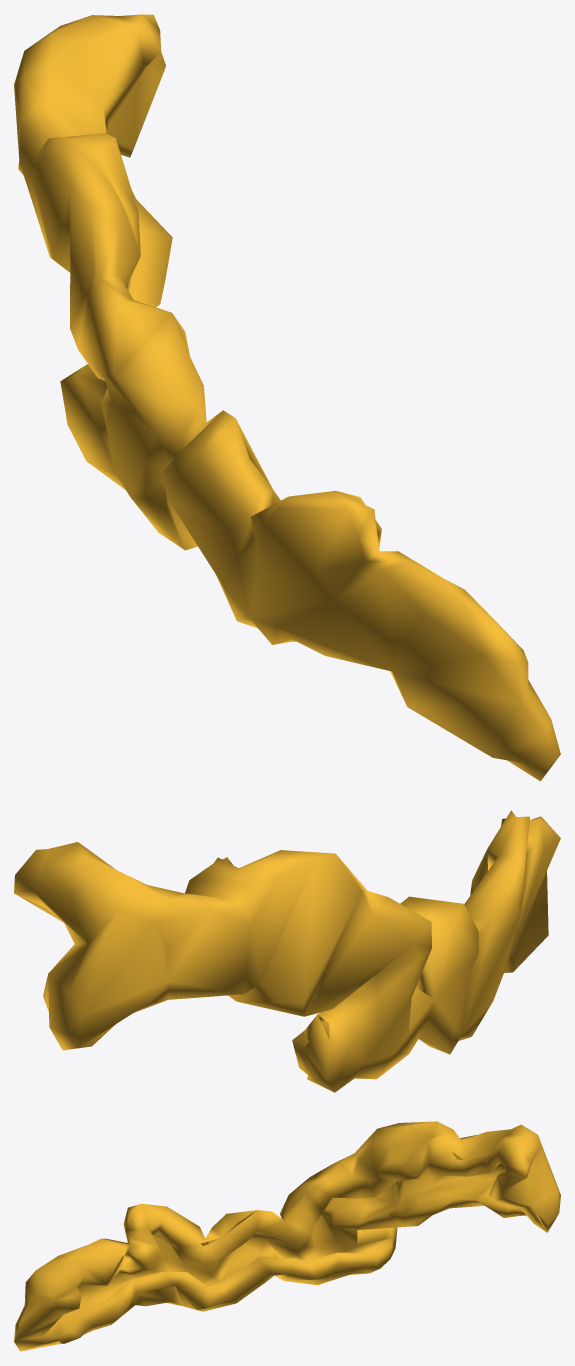
The model's file is nervoso-middle-temporal-gyrus-r.glb.
3 renders of one model, top to bottom at view 1: azimuth 30°, elevation 25°; view 2: azimuth 150°, elevation 25°; view 3: azimuth 270°, elevation 25°, orthographic. The views are drawn at different scales.
Parts seen in each view (by area): view 1: Middle temporal gyrus.r; view 2: Middle temporal gyrus.r; view 3: Middle temporal gyrus.r.
Part boxes in pixels (left/top/right/bottom): Middle temporal gyrus.r: left=14, top=14, right=560, bottom=781; Middle temporal gyrus.r: left=14, top=810, right=560, bottom=1092; Middle temporal gyrus.r: left=14, top=1121, right=560, bottom=1351.
Bounding box in the file's own units: 0.0281 × 0.0453 × 0.1004.
